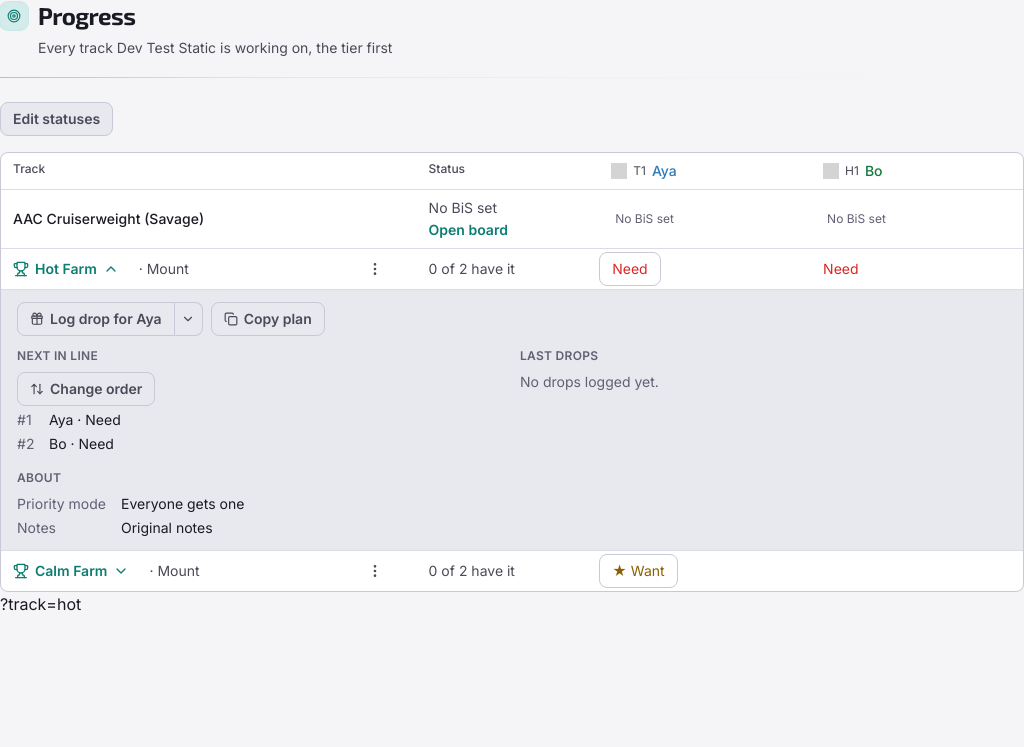
opening another row with unsaved changes (D-12) › asks "Discard changes?"; Keep editing keeps both rows as they were
Expected: the row with test id "progress-expansion" is shown, [1,290,1023,550]
Click the button named "Actions for Hot Farm": click(375, 269) [361,255,389,283]
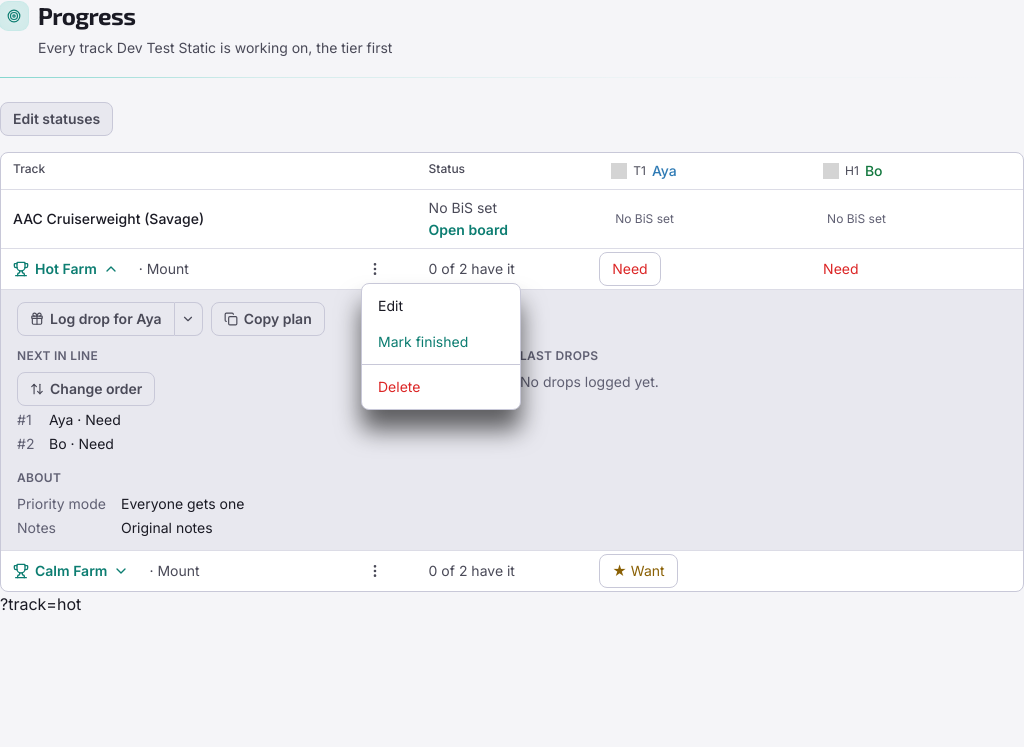
Click the menu item "Edit": click(441, 306) [362,288,520,324]
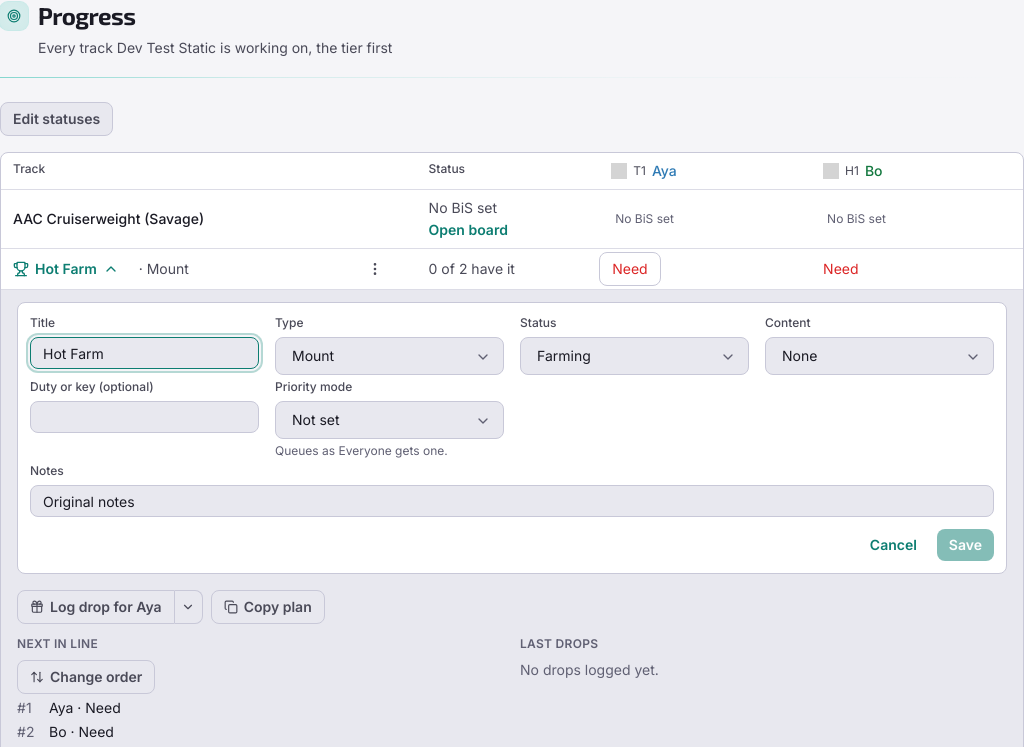
Expected: the form with test id "progress-edit-block" is shown, [17,302,1007,574]
Replace the text in the field labelled "Notes" with "Edited notes": (512, 501) [30,485,994,517]
(page scrolled)
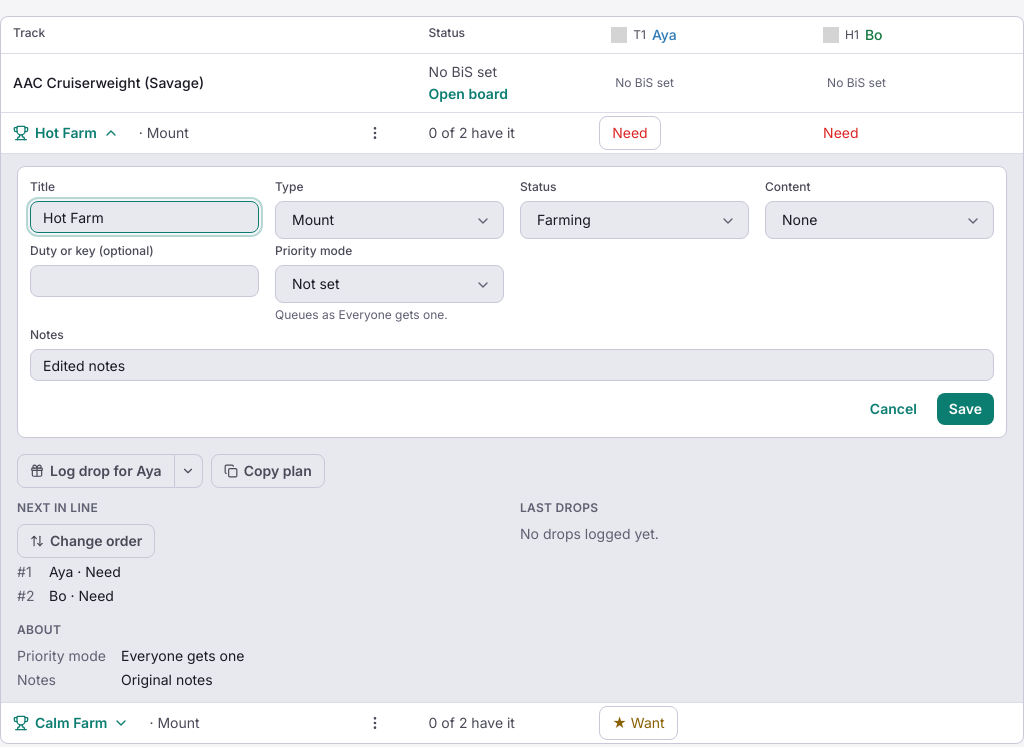
Click the button "Calm Farm": click(71, 723) [1,707,142,739]
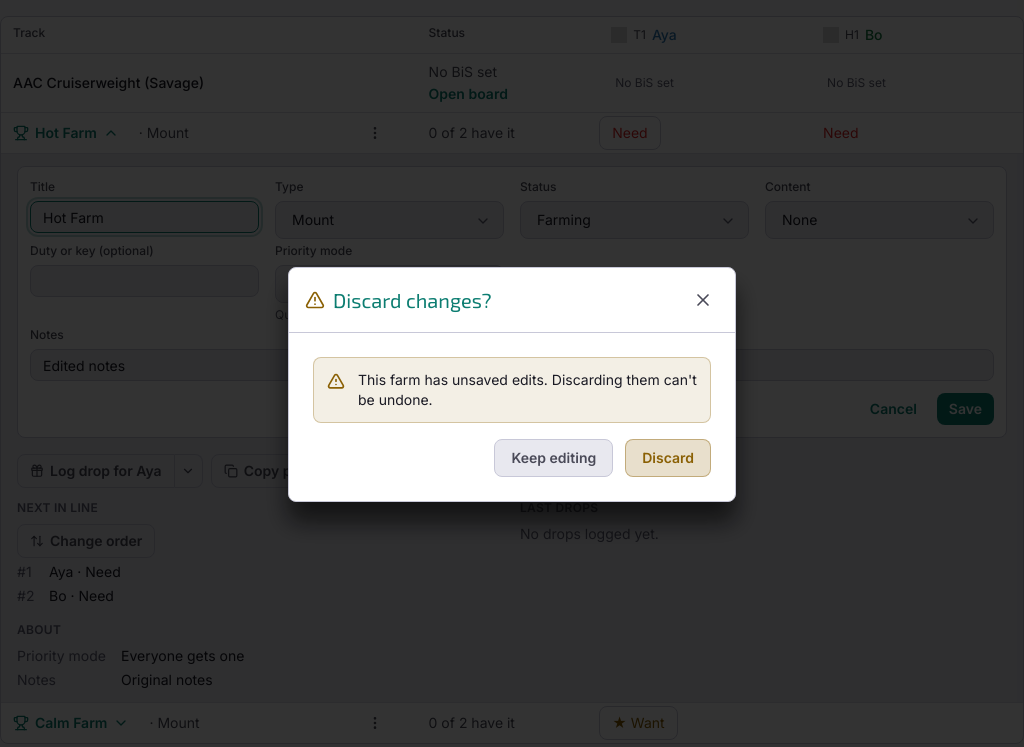
Expected: the dialog "Discard changes?" is shown, [288,266,736,502]
Click the button "Keep editing": click(554, 458) [494,438,613,476]
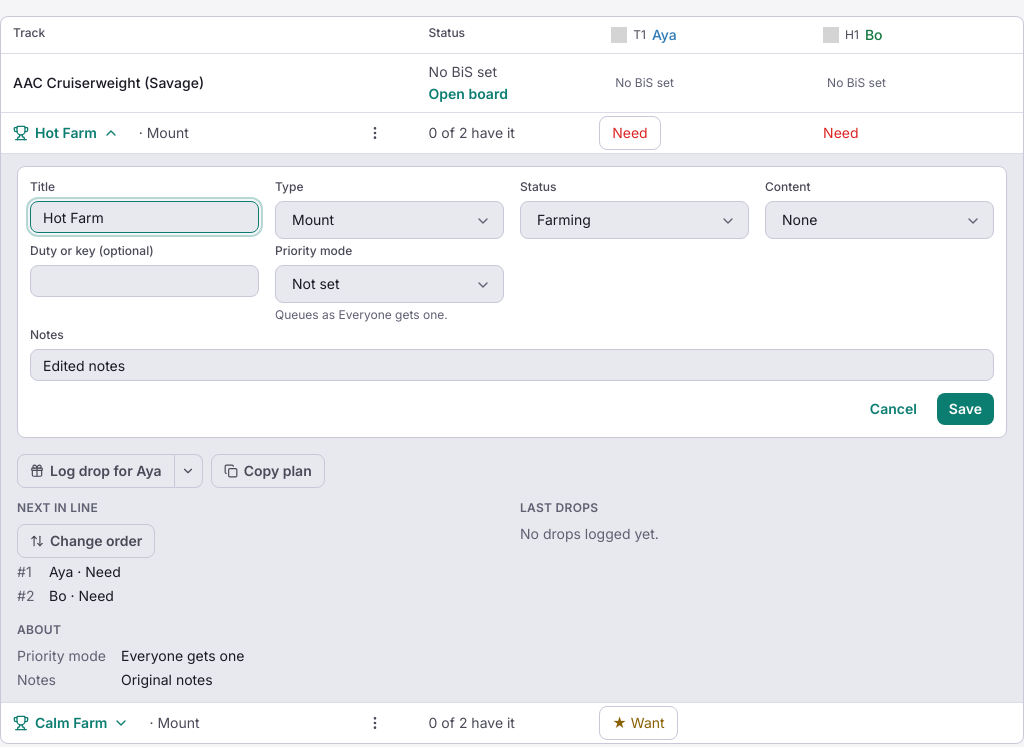
Expected: the dialog "Discard changes?" is gone
